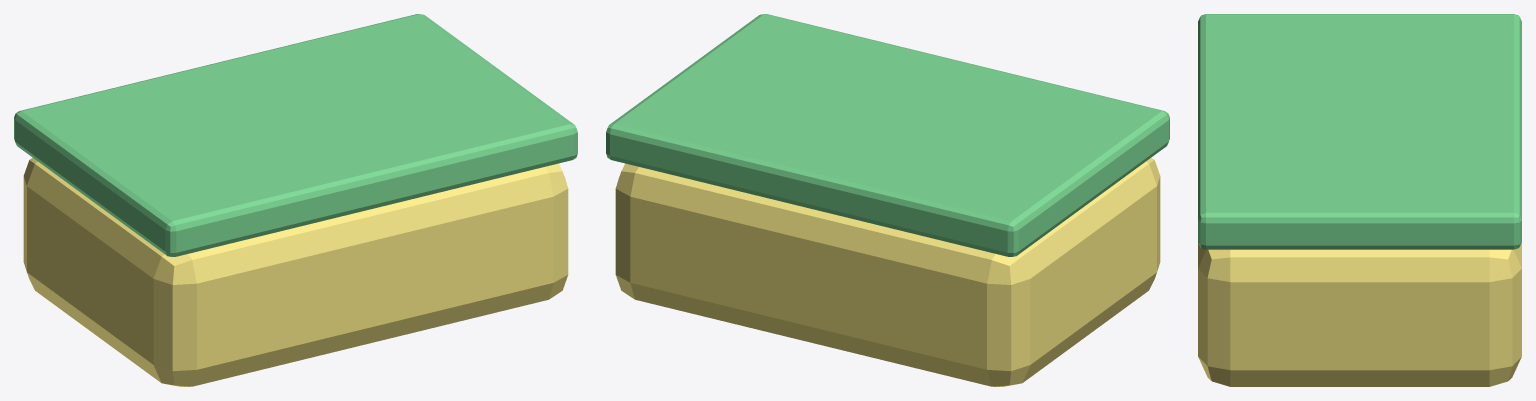
The model's file is sponge.glb.
3 renders of one model, left to right at view 1: azimuth 30°, elevation 25°; view 2: azimuth 150°, elevation 25°; view 3: azimuth 270°, elevation 25°, orthographic. The views are drawn at different scales.
Visible parts, largest first — view 1: sponge_scrub, sponge; view 2: sponge_scrub, sponge; view 3: sponge_scrub, sponge.
Part boxes in pixels (x1,y1,x2,y2): sponge_scrub: (14,14,577,256); sponge: (23,158,568,386); sponge_scrub: (606,14,1169,256); sponge: (615,158,1160,386); sponge_scrub: (1198,14,1521,249); sponge: (1198,242,1521,386).
Bounding box in the file's own units: 0.06 × 0.025 × 0.04.
